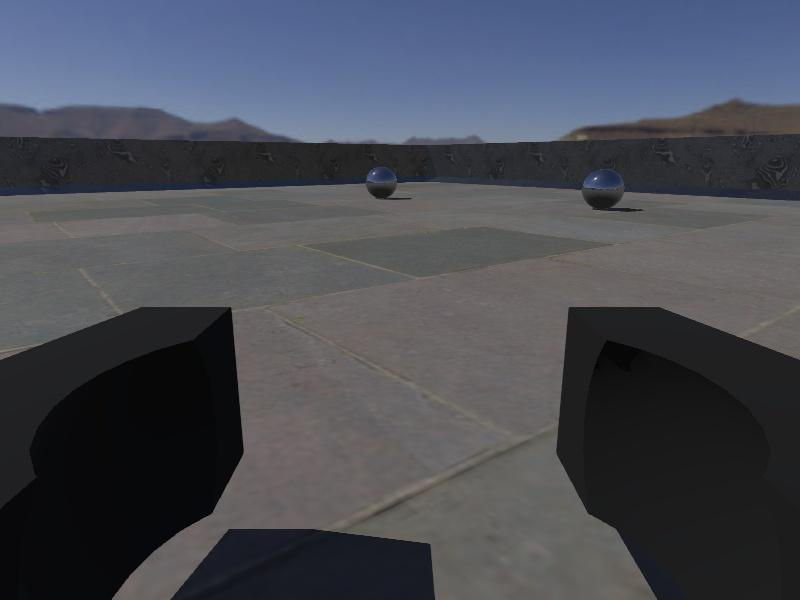steel ball: (582, 168, 624, 210), (365, 166, 398, 199)
